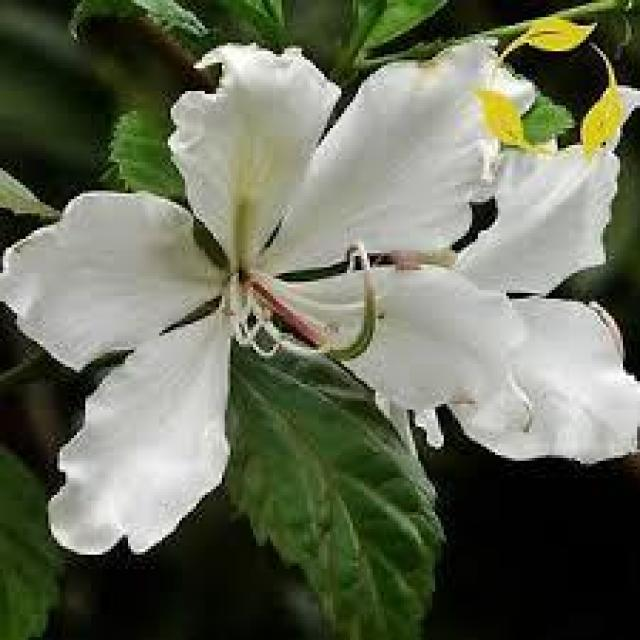organic waste: (23, 70, 506, 553)
